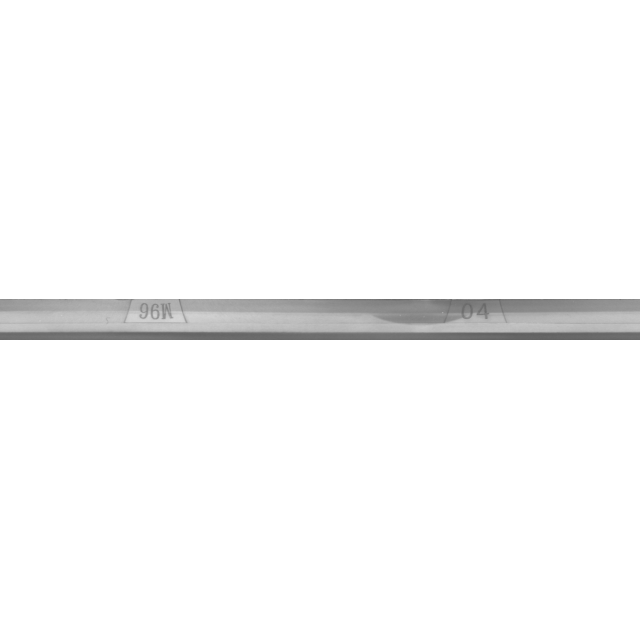mohao: (48, 270, 248, 370)
xuehao: (377, 270, 577, 370)
